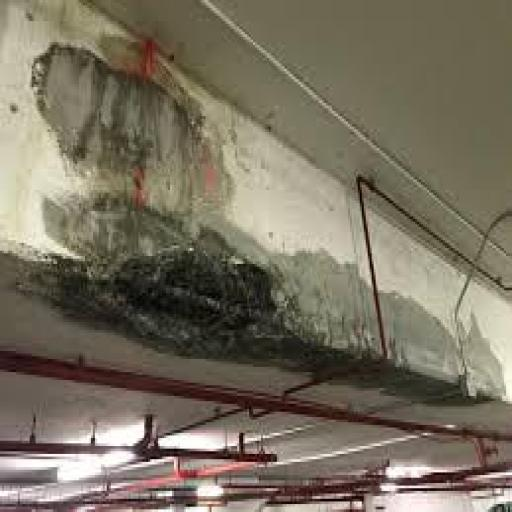spalling: (28, 38, 323, 370)
